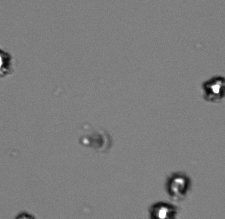Dead Cell: (84, 130, 108, 151)
Living Cell: (169, 173, 191, 196), (204, 74, 223, 100), (150, 202, 175, 217), (1, 49, 13, 79)
